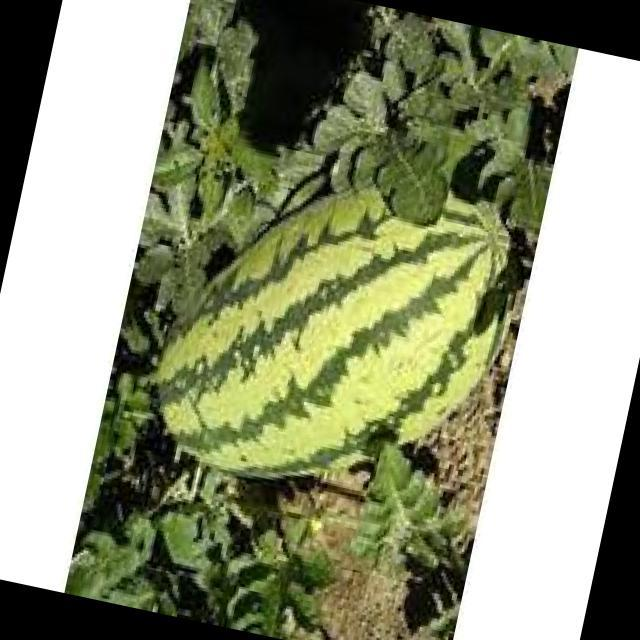watermelon: (156, 175, 518, 480)
